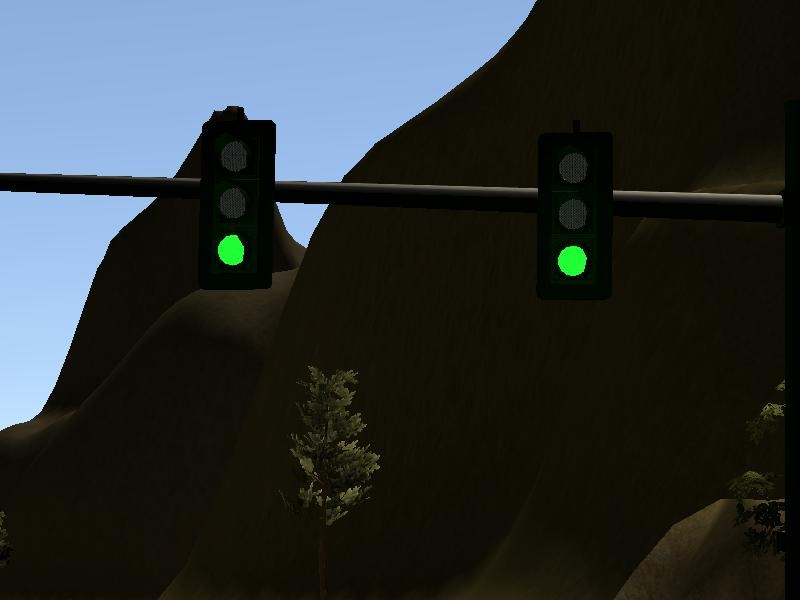GREEN: (199, 118, 277, 288), (536, 131, 614, 301)
